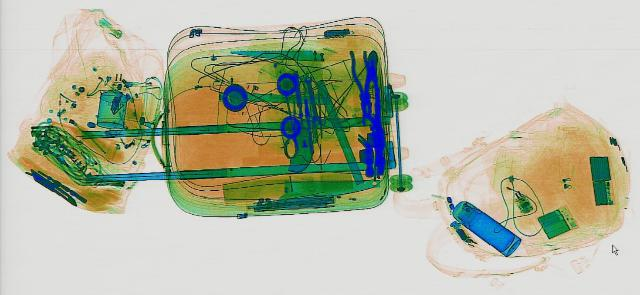Pliers: (347, 49, 379, 114)
